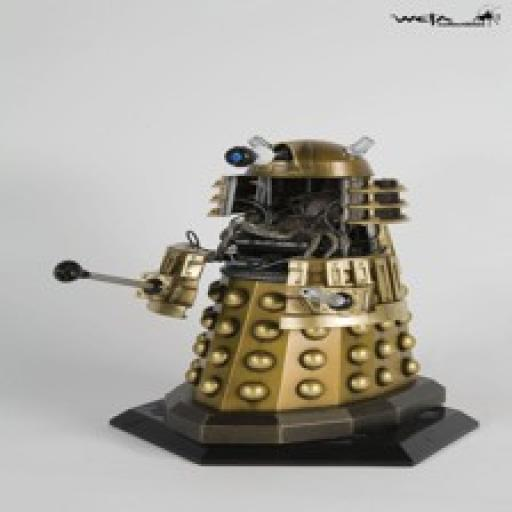dalek: (49, 129, 446, 444)
